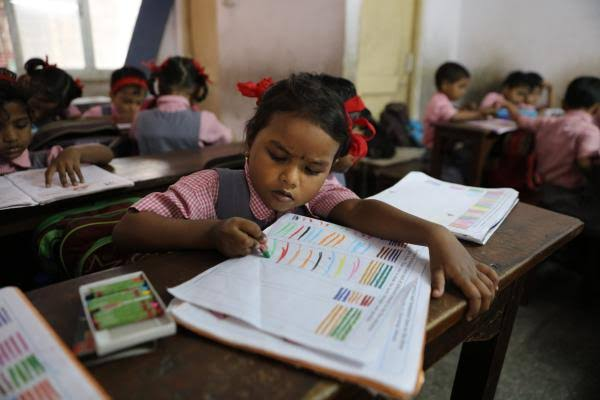student: (236, 73, 349, 210), (1, 81, 27, 171)
